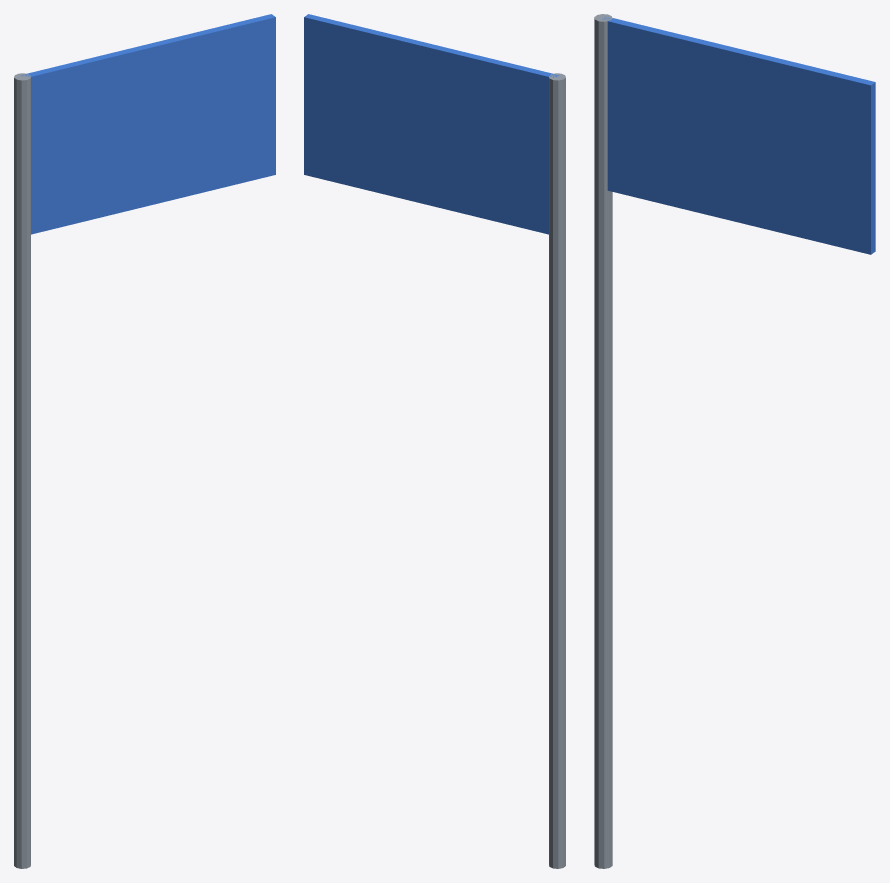
Rendered from Motor_Flag.fbx.
The picture shows the model from 3 angles, left to right: view 1: azimuth 30°, elevation 25°; view 2: azimuth 150°, elevation 25°; view 3: azimuth 330°, elevation 25°; orthographic projection. The views are drawn at different scales.
Parts seen in each view (by area): view 1: Flag; view 2: Flag; view 3: Flag.
Boxes of the visible parts, bbox=[...] form: Flag: bbox=[14, 14, 275, 868]; Flag: bbox=[304, 14, 565, 868]; Flag: bbox=[594, 14, 875, 868].
Size of the model in its own units: 1.03 by 3 by 0.06.
